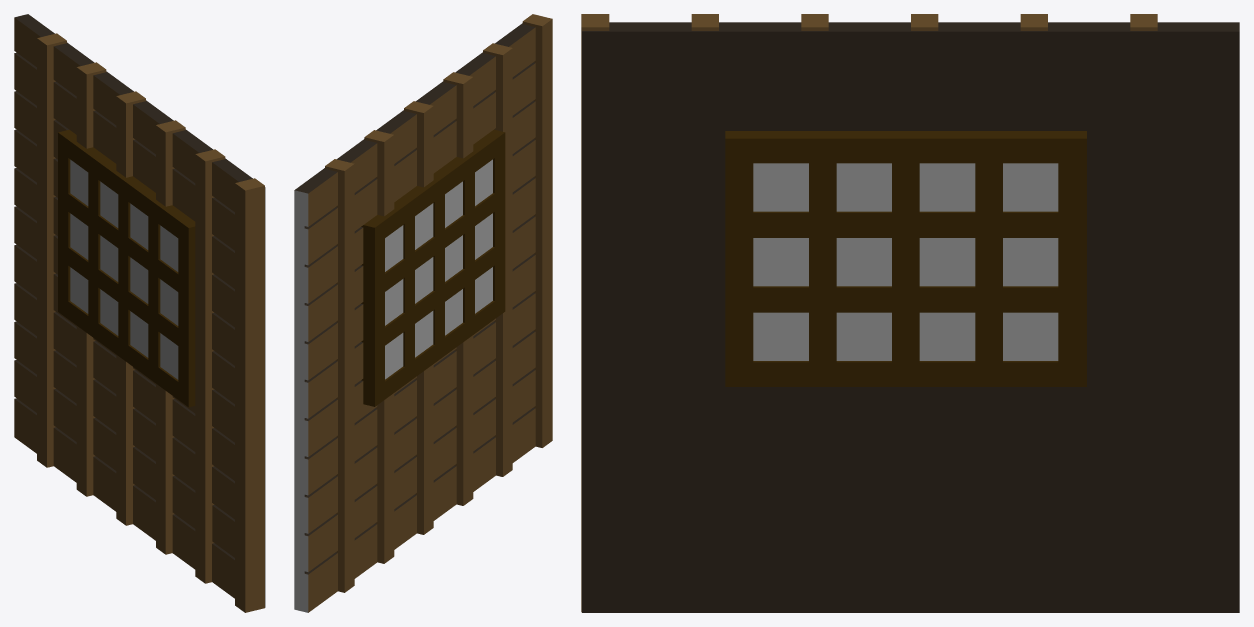
The model's file is Puerta_Con_Pared.fbx.
3 renders of one model, left to right at view 1: azimuth 30°, elevation 25°; view 2: azimuth 150°, elevation 25°; view 3: azimuth 270°, elevation 25°, orthographic. The views are drawn at different scales.
Parts seen in each view (by area): view 1: polySurface41; view 2: polySurface41; view 3: polySurface41.
Boxes of the visible parts, x1=… form: polySurface41: x1=14, y1=14, x2=265, y2=612; polySurface41: x1=294, y1=14, x2=552, y2=612; polySurface41: x1=581, y1=14, x2=1239, y2=612.
Size of the model in its own units: 2.45 by 27.17 by 27.72.
